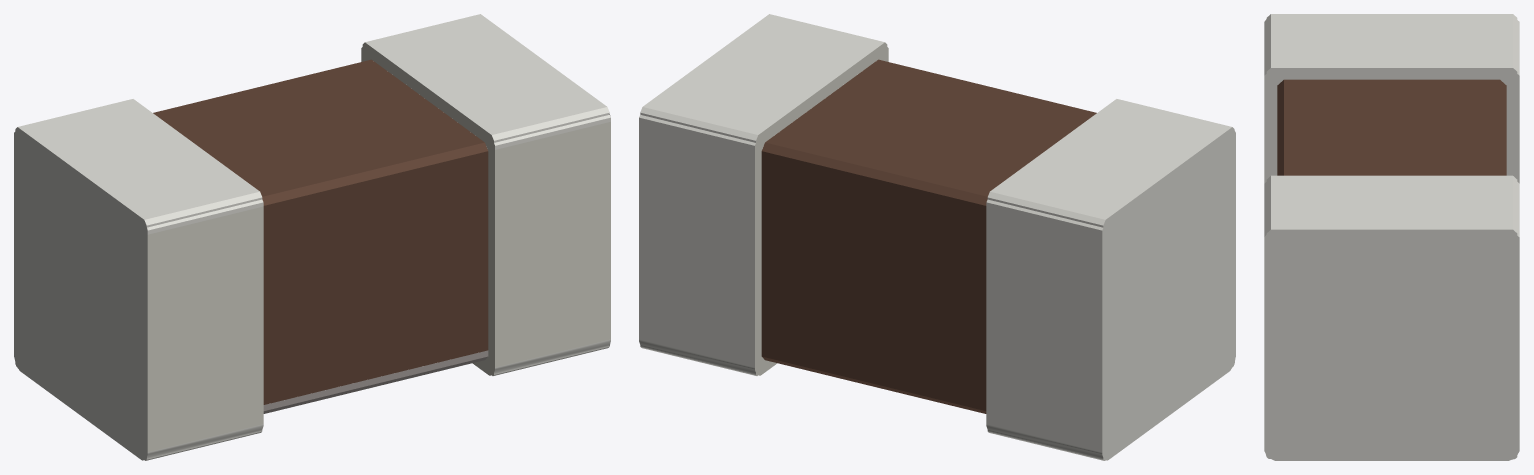
3 renders of one model, left to right at view 1: azimuth 30°, elevation 25°; view 2: azimuth 150°, elevation 25°; view 3: azimuth 270°, elevation 25°, orthographic. The views are drawn at different scales.
Size of the model in its own units: 0.5994 by 0.2998 by 0.2998.
